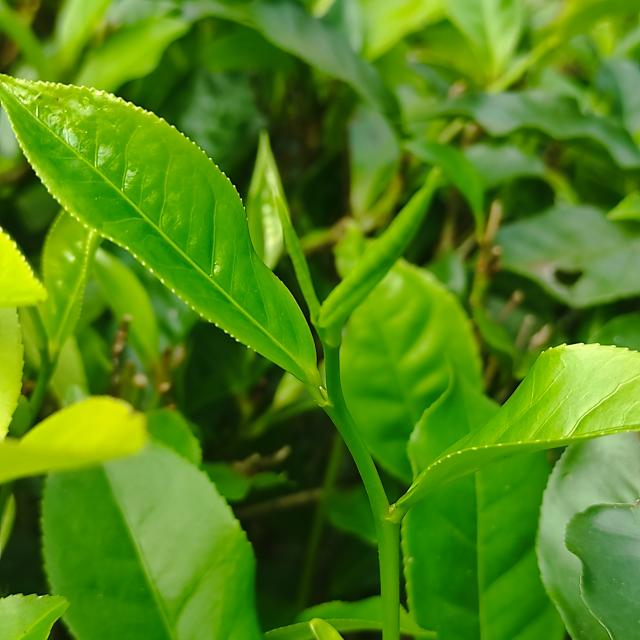unopened_leaf: (310, 156, 454, 347), (270, 188, 345, 354)
